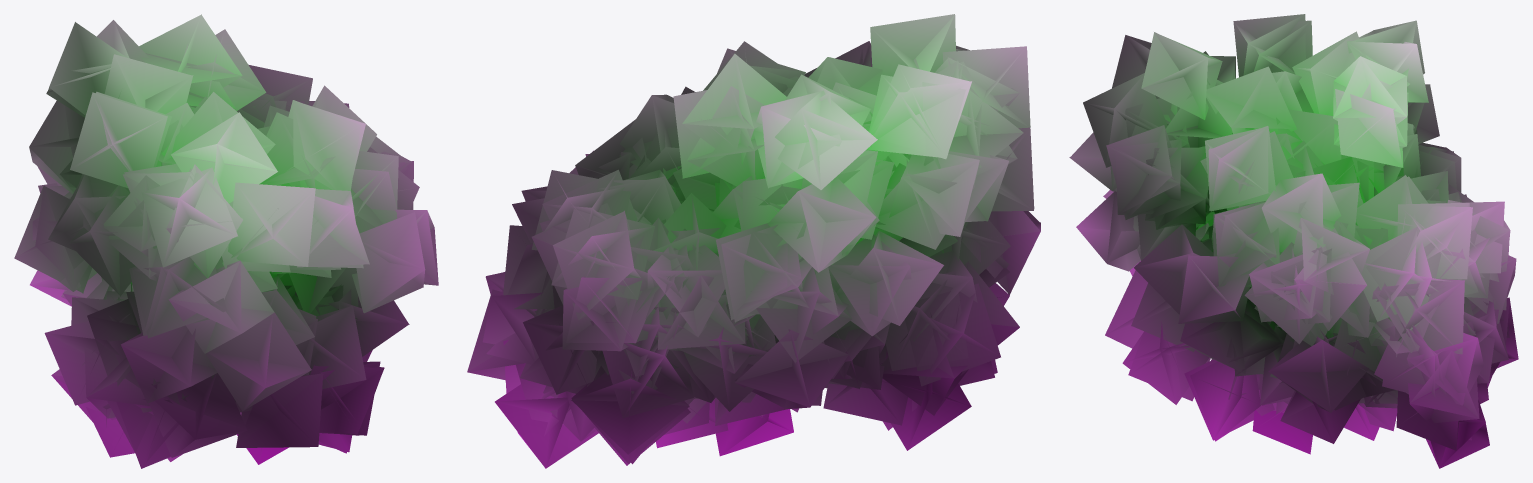
Rendered from Tree_03test.fbx.
The picture shows the model from 3 angles, left to right: view 1: azimuth 30°, elevation 25°; view 2: azimuth 150°, elevation 25°; view 3: azimuth 270°, elevation 25°; orthographic projection. The views are drawn at different scales.
Visible parts, largest first — view 1: Tree_03test; view 2: Tree_03test; view 3: Tree_03test.
Part boxes in pixels (x1,y1,x2,y2): Tree_03test: (14, 14, 438, 468); Tree_03test: (467, 14, 1040, 468); Tree_03test: (1069, 14, 1518, 468).
Size of the model in its own units: 1.97 by 1.98 by 2.12.
